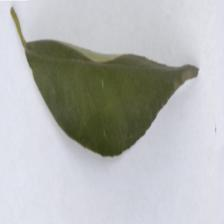healthy: (24, 37, 200, 161)
